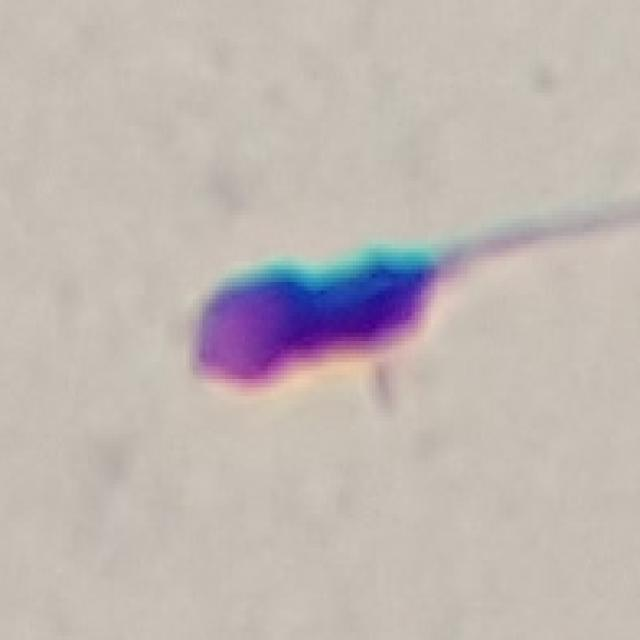abnormal sperm: (180, 204, 636, 398)
